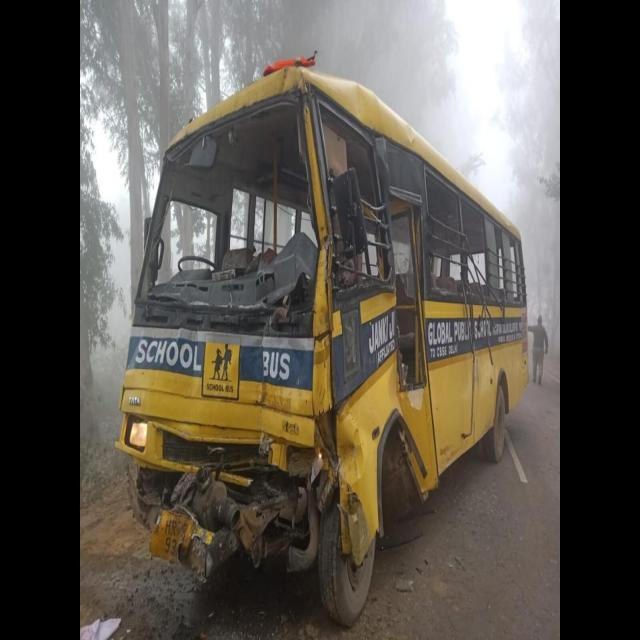accident: (116, 58, 529, 626)
